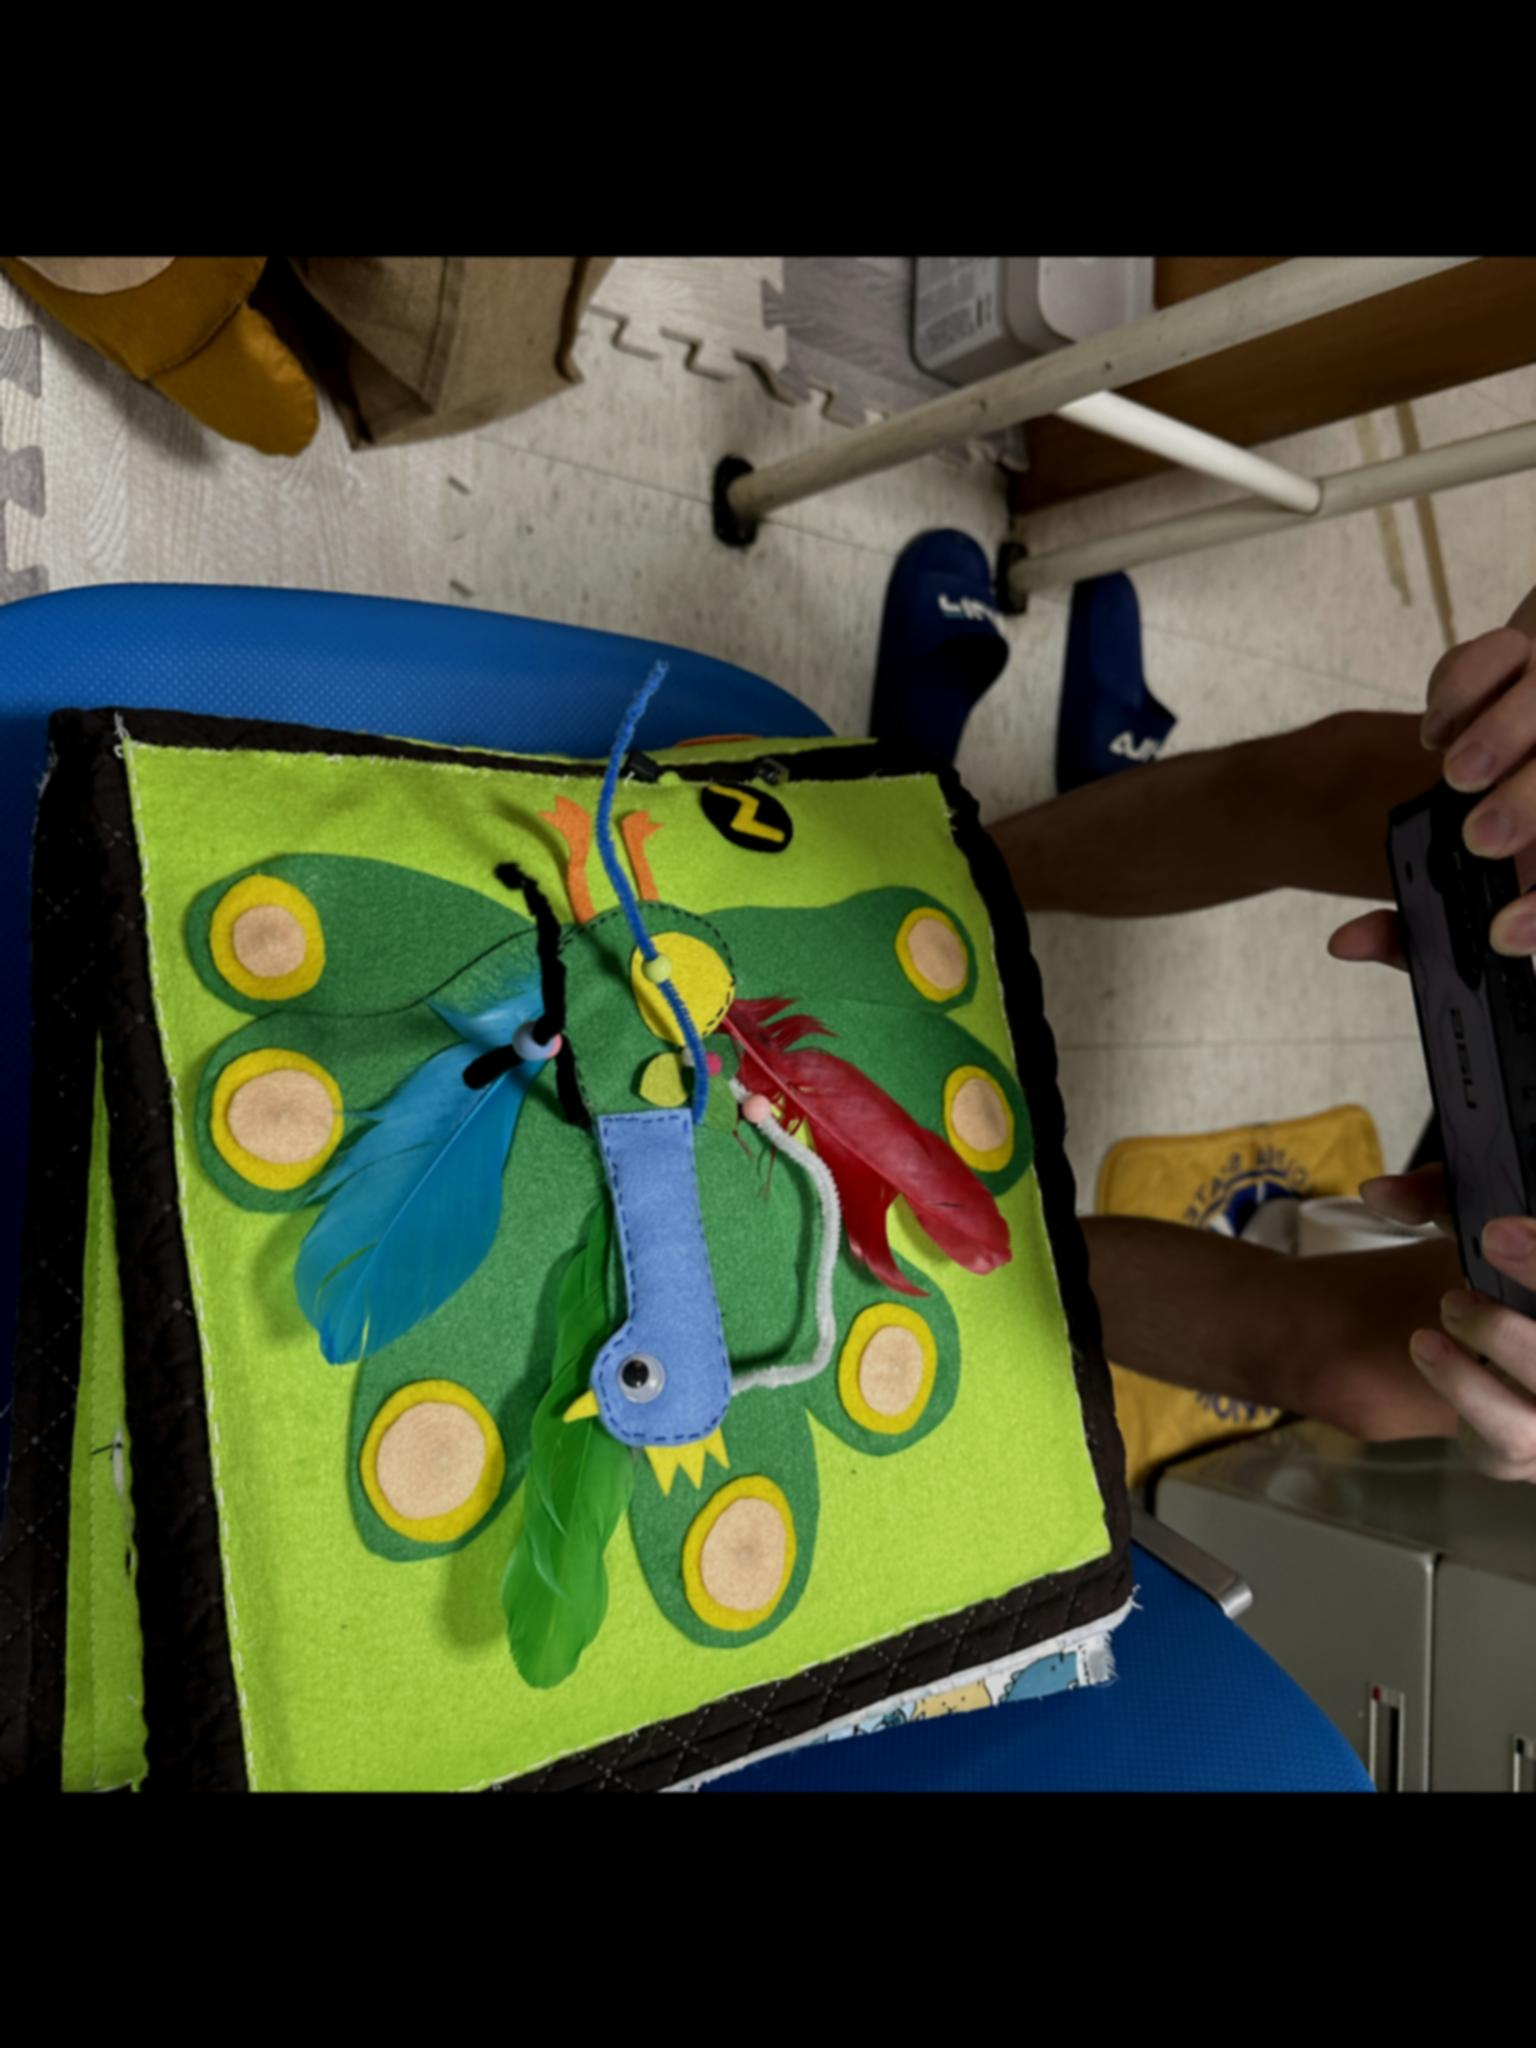bead: (724, 1074, 800, 1142), (508, 1013, 576, 1085), (613, 947, 687, 993)
